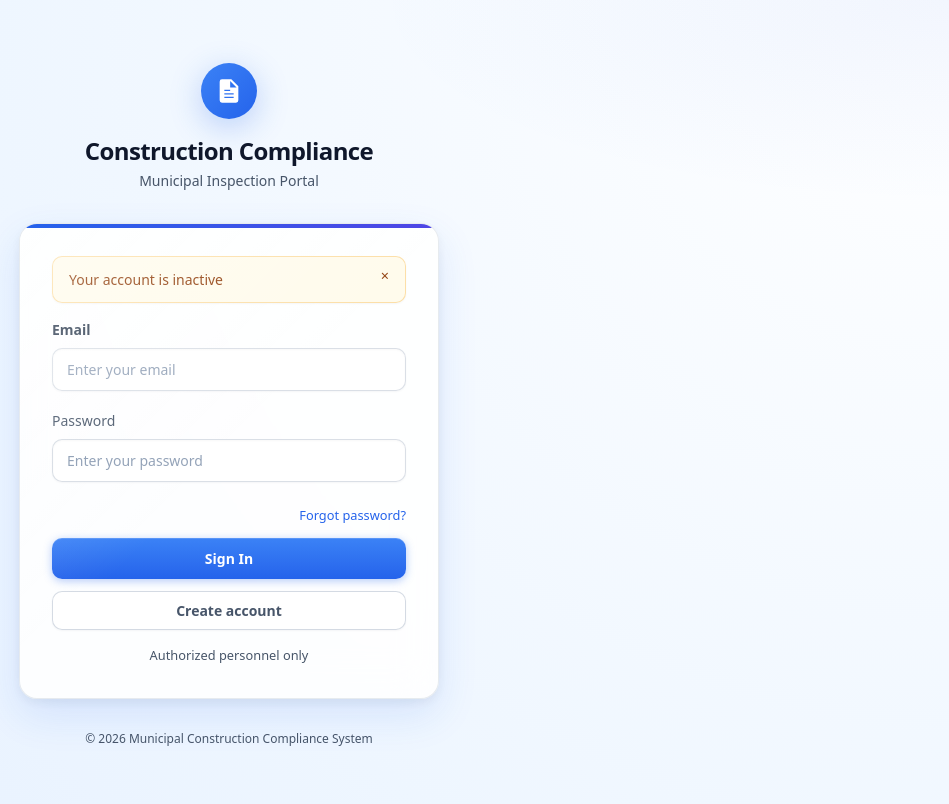
Login › displays and dismisses an invalid-session message
Expected: the text "Your account is inactive" is shown, [69, 269, 223, 290]
Click the button named "Dismiss message" at (385, 277), box [381, 269, 389, 284]
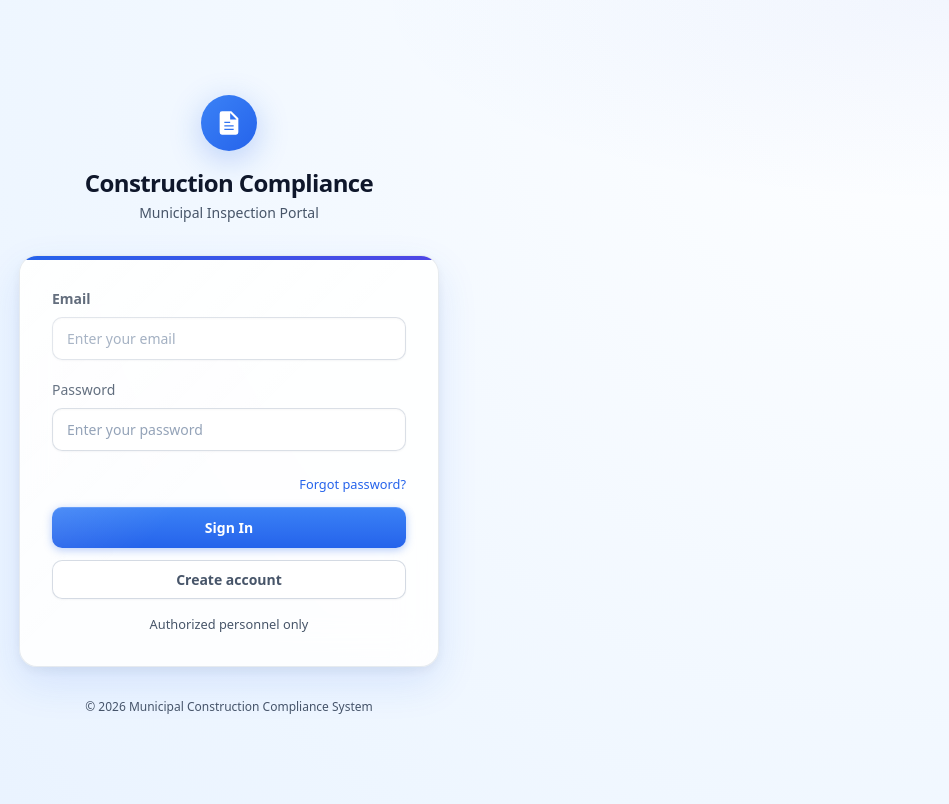
Expected: the text "Your account is inactive" is gone
